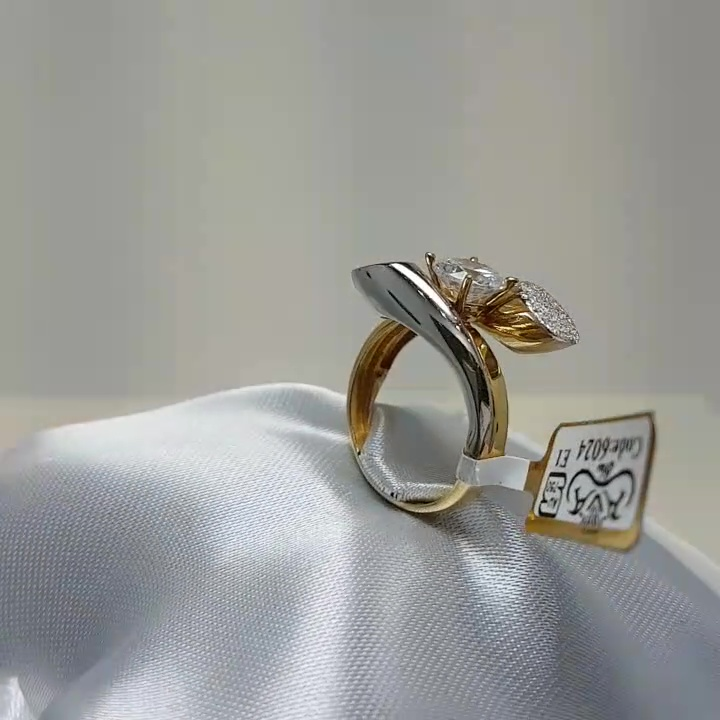Ring 7: (315, 240, 574, 524)
